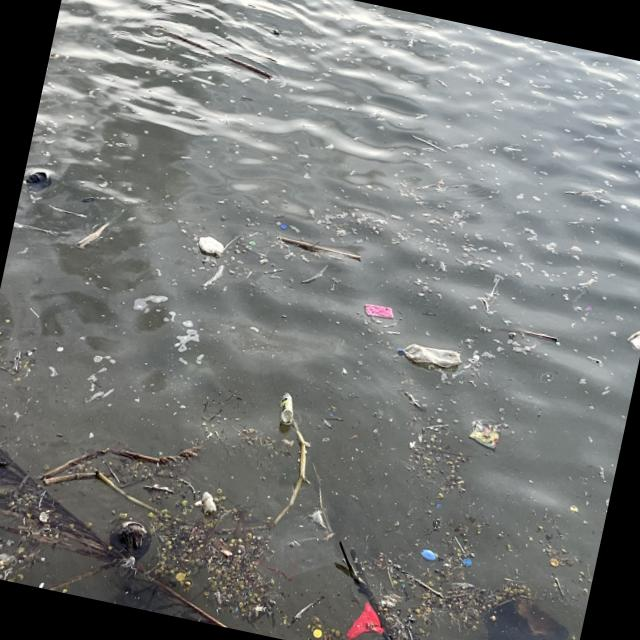foam: (197, 236, 228, 259)
plastic bottle: (396, 339, 463, 372), (277, 391, 299, 426), (199, 492, 220, 517)
